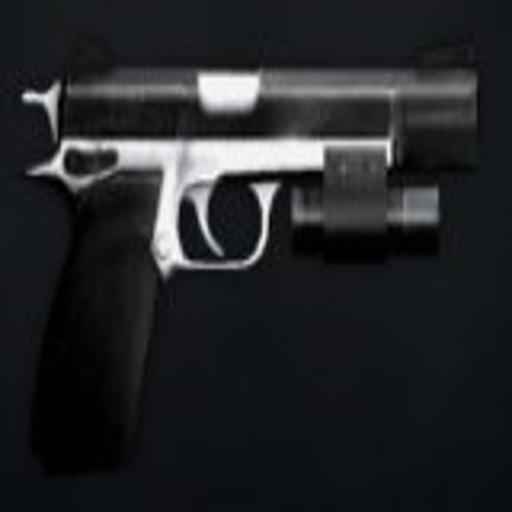Handgun: (18, 37, 485, 472)
